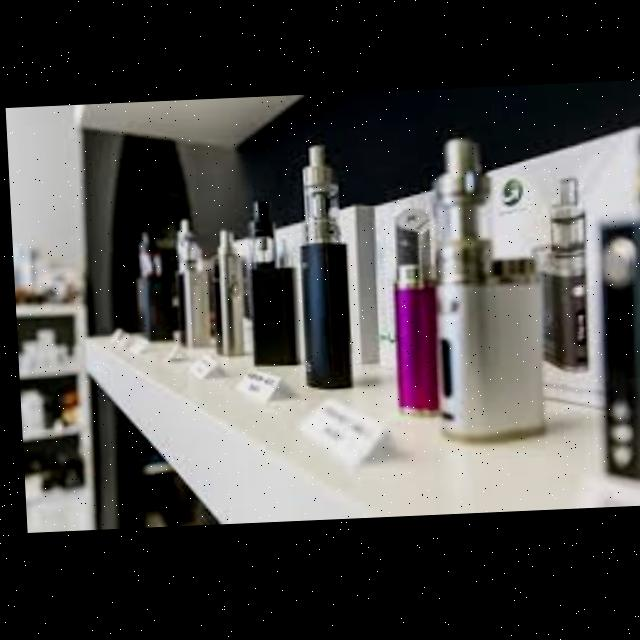vape: (424, 141, 541, 448), (589, 140, 640, 496), (292, 145, 351, 394), (526, 179, 586, 377), (385, 210, 438, 420), (242, 197, 294, 369), (171, 217, 211, 353), (128, 230, 170, 343), (209, 232, 243, 361)
